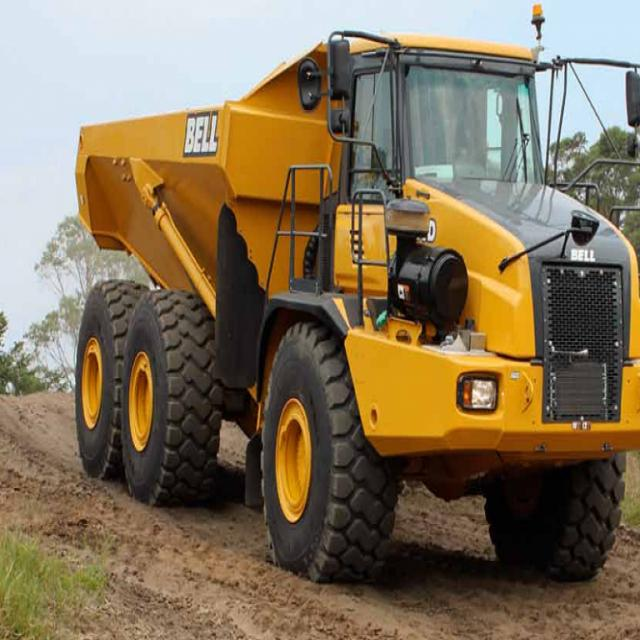dump_truck: (37, 2, 639, 598)
